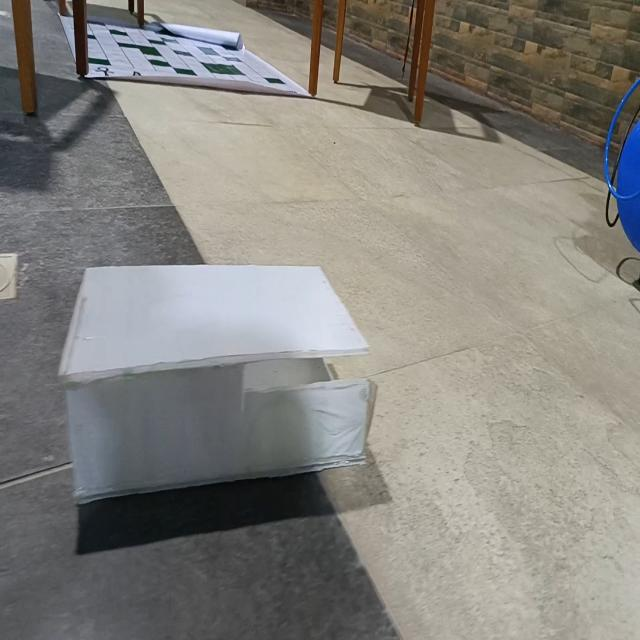Cuboid: (57, 261, 373, 505)
